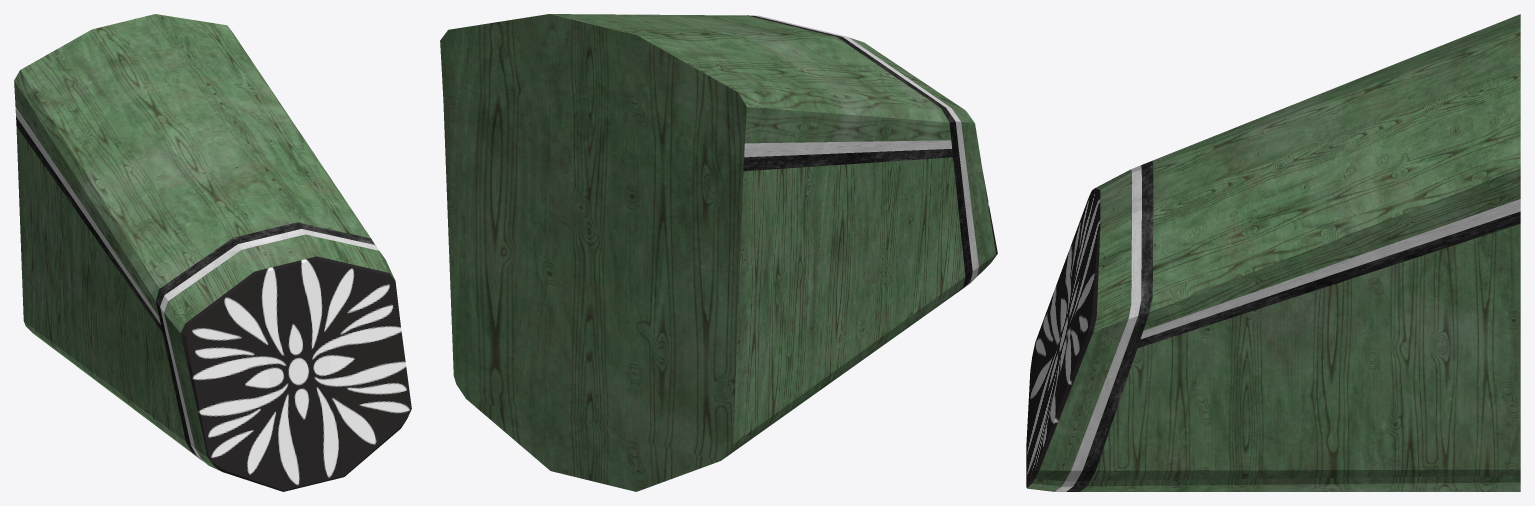
File: SM_R_Beam_22.fbx
3 views of the same model, side by side, from view 1: azimuth 30°, elevation 25°; view 2: azimuth 150°, elevation 25°; view 3: azimuth 270°, elevation 25° (orthographic). The views are drawn at different scales.
Parts seen in each view (by area): view 1: SM_R_Beam_22; view 2: SM_R_Beam_22; view 3: SM_R_Beam_22.
Part boxes in pixels (box(x1,y1,x2,y2)): SM_R_Beam_22: box(14, 14, 411, 491); SM_R_Beam_22: box(440, 14, 997, 491); SM_R_Beam_22: box(1026, 14, 1520, 491).
Bounding box in the file's own units: 26.05 × 38.76 × 36.58.
3 materials, 3 textured.
